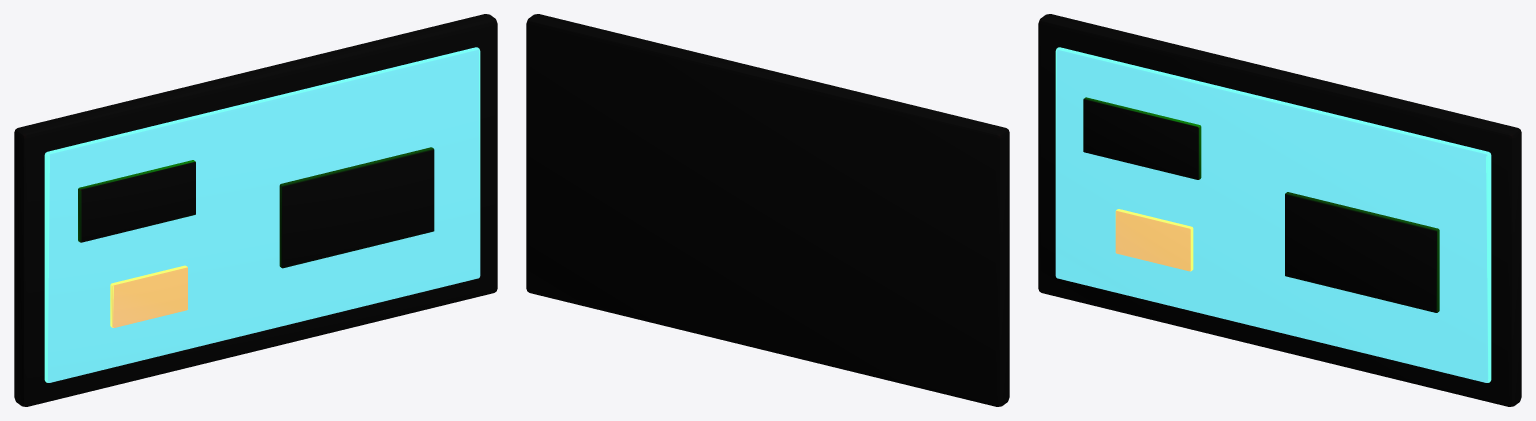
File: hero_whiteboard_wall.glb
3 views of the same model, side by side, from view 1: azimuth 30°, elevation 25°; view 2: azimuth 150°, elevation 25°; view 3: azimuth 330°, elevation 25° (orthographic).
Visible parts, largest first — view 1: HeroWhiteboardWall; view 2: HeroWhiteboardWall; view 3: HeroWhiteboardWall.
Part boxes in pixels (x1,y1,x2,y2): HeroWhiteboardWall: (14, 14, 497, 406); HeroWhiteboardWall: (526, 14, 1009, 406); HeroWhiteboardWall: (1038, 14, 1521, 406).
Bounding box in the file's own units: 3.9 × 2.15 × 0.235.
